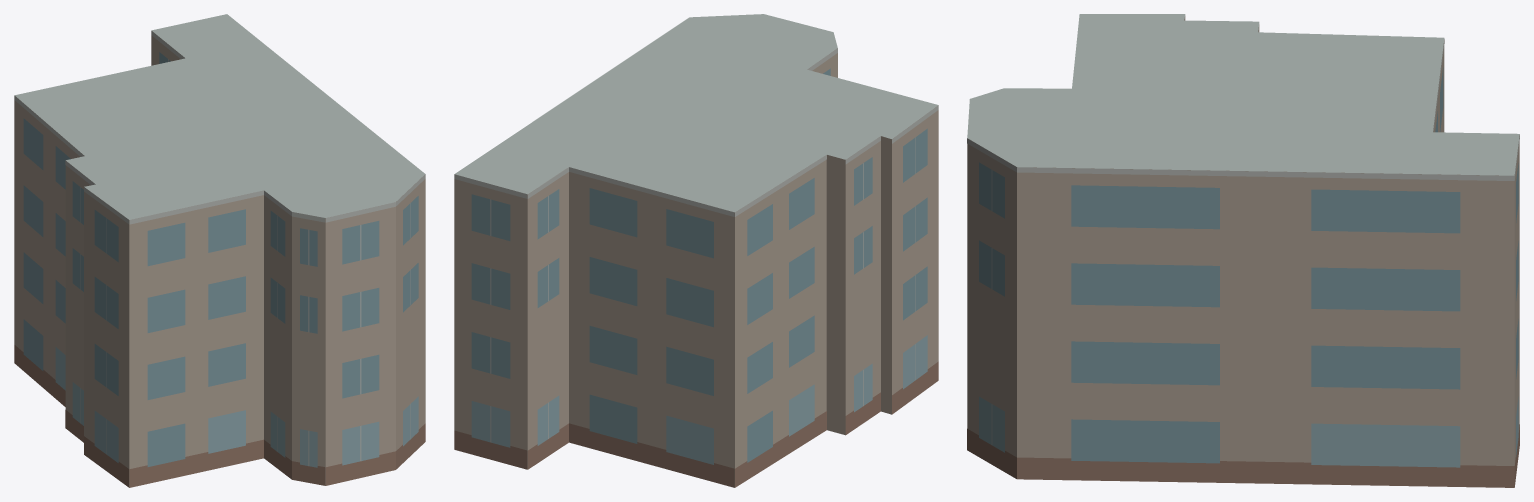
The model's file is survey-upis-32622148.glb.
The picture shows the model from 3 angles, left to right: view 1: azimuth 30°, elevation 25°; view 2: azimuth 150°, elevation 25°; view 3: azimuth 270°, elevation 25°; orthographic projection. The views are drawn at different scales.
Parts seen in each view (by area): view 1: survey-upis-32622148.tmp; view 2: survey-upis-32622148.tmp; view 3: survey-upis-32622148.tmp.
Boxes of the visible parts, left/top/right/bottom form: survey-upis-32622148.tmp: left=14, top=14, right=425, bottom=487; survey-upis-32622148.tmp: left=454, top=14, right=938, bottom=487; survey-upis-32622148.tmp: left=967, top=14, right=1519, bottom=487.
Bounding box in the file's own units: 15.68 × 14.1 × 22.63.
